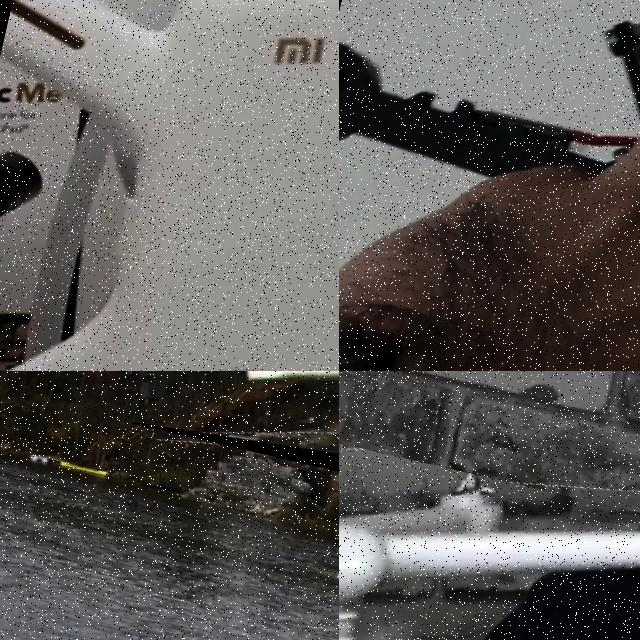drone: (0, 0, 339, 371), (339, 0, 640, 371), (339, 378, 640, 640), (131, 371, 339, 488)
